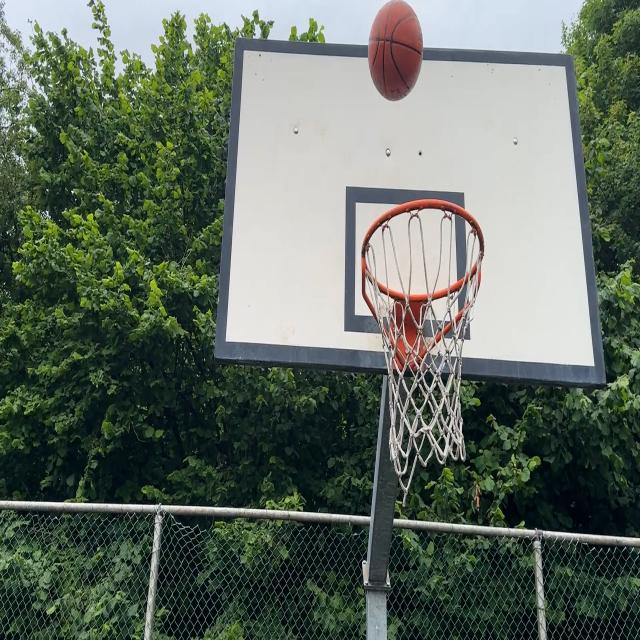Basketball: (366, 2, 422, 103)
